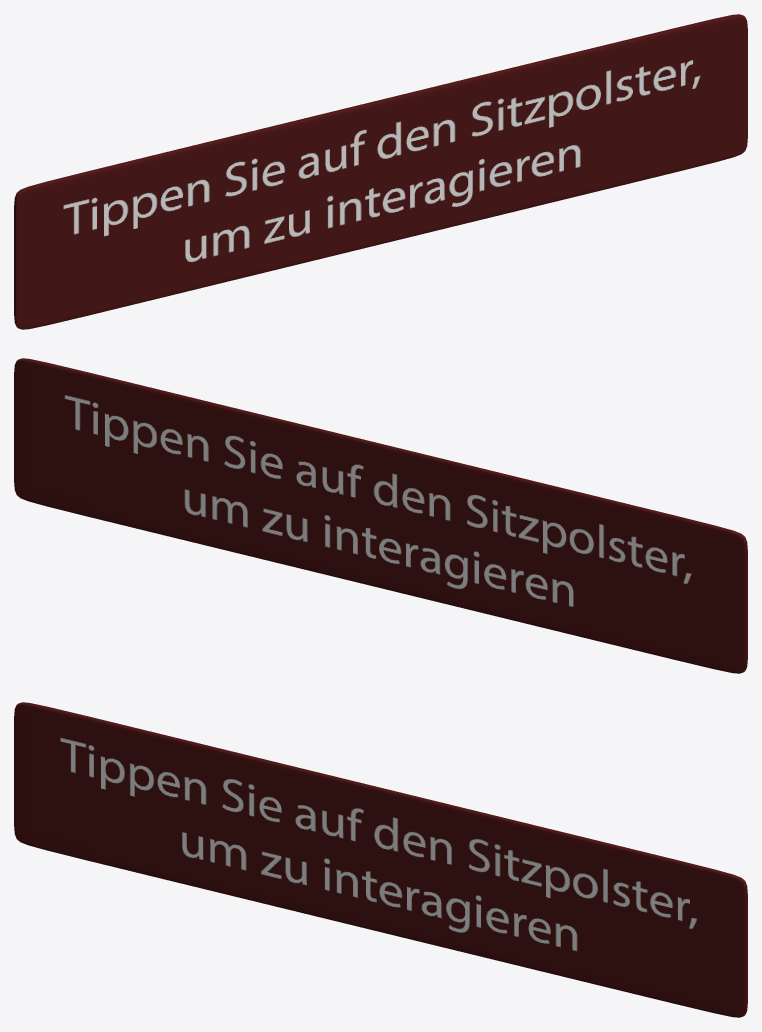
File: title.gltf
3 views of the same model, one above another, from view 1: azimuth 30°, elevation 25°; view 2: azimuth 150°, elevation 25°; view 3: azimuth 330°, elevation 25° (orthographic).
Parts seen in each view (by area): view 1: Cube.003; view 2: Cube.003; view 3: Cube.003.
Part boxes in pixels (<box>): Cube.003: <box>14,14,747,329</box>; Cube.003: <box>14,358,747,673</box>; Cube.003: <box>14,702,747,1017</box>.
Bounding box in the file's own units: 0.587 × 0.1093 × 0.00441.
1 material, 1 textured.
